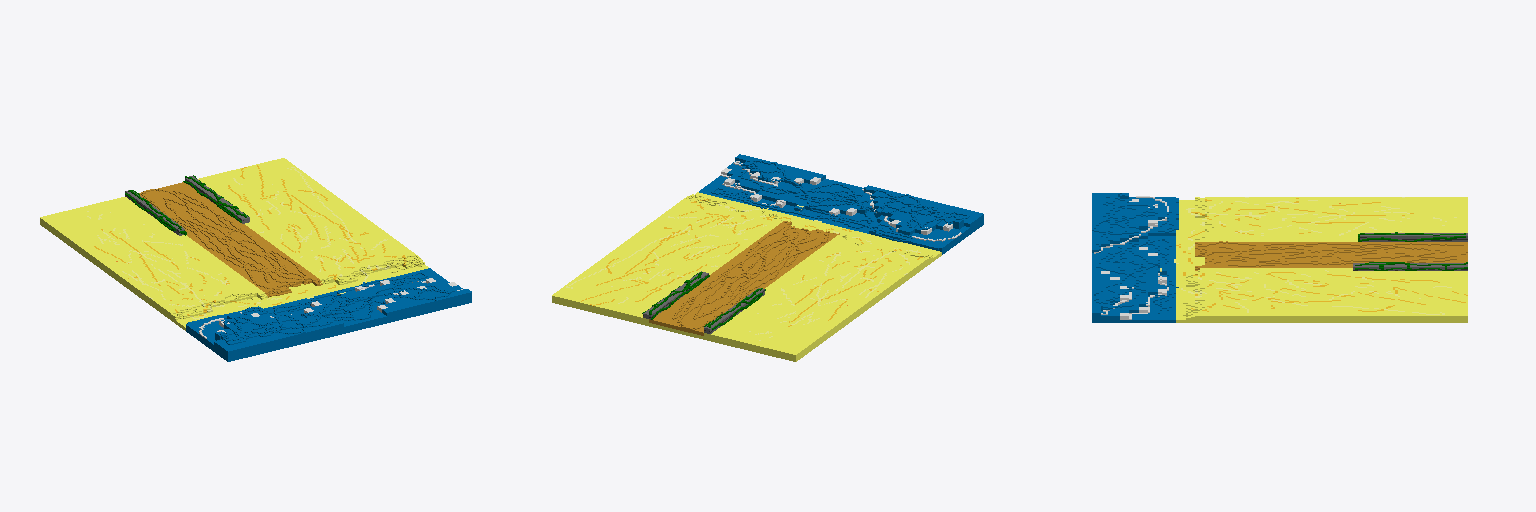
The picture shows the model from 3 angles: view 1: azimuth 30°, elevation 25°; view 2: azimuth 150°, elevation 25°; view 3: azimuth 270°, elevation 25°; orthographic projection.
Visible parts, largest first — view 1: suelo; view 2: suelo; view 3: suelo.
Part boxes in pixels (x1,y1,x2,y2): suelo: (40, 158, 471, 361); suelo: (552, 154, 983, 361); suelo: (1092, 193, 1467, 322).
Size of the model in its own units: 501 by 29.4 by 668.
1 materials, 1 textured.